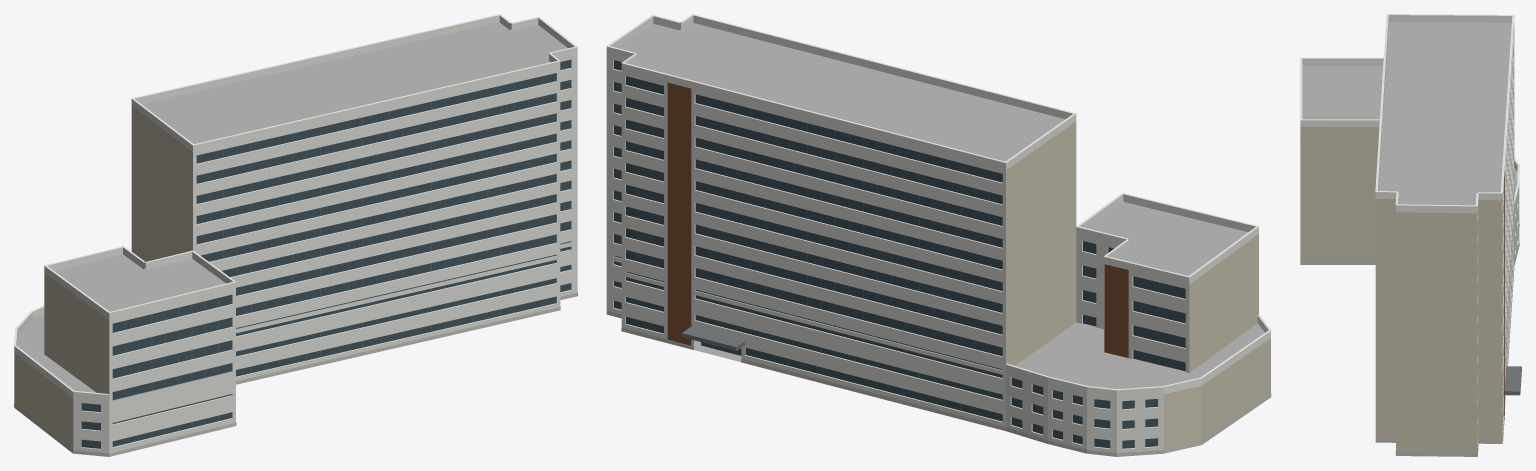
3 renders of one model, left to right at view 1: azimuth 30°, elevation 25°; view 2: azimuth 150°, elevation 25°; view 3: azimuth 270°, elevation 25°, orthographic. The views are drawn at different scales.
Visible parts, largest first — view 1: hospitalEast__wall, hospitalEast__glass, hospitalEast__roof, hospitalEast__wall2, hospitalEast__parapet, hospitalEast__trim, hospitalEast__frame, hospitalEast__base; view 2: hospitalEast__wall, hospitalEast__glass, hospitalEast__roof, hospitalEast__wall2, hospitalEast__parapet, hospitalEast__wood, hospitalEast__trim, hospitalEast__base, hospitalEast__frame, hospitalEast__canopy; view 3: hospitalEast__wall2, hospitalEast__roof, hospitalEast__wall, hospitalEast__parapet, hospitalEast__trim, hospitalEast__base, hospitalEast__canopy, hospitalEast__wood.
Boxes of the visible parts, bbox=[...] form: hospitalEast__wall: bbox=[73, 54, 577, 456]; hospitalEast__glass: bbox=[81, 59, 570, 448]; hospitalEast__roof: bbox=[17, 22, 570, 400]; hospitalEast__wall2: bbox=[14, 106, 192, 453]; hospitalEast__parapet: bbox=[14, 15, 577, 401]; hospitalEast__trim: bbox=[14, 14, 577, 395]; hospitalEast__frame: bbox=[125, 76, 542, 443]; hospitalEast__base: bbox=[14, 293, 577, 456]; hospitalEast__wall: bbox=[606, 54, 1189, 453]; hospitalEast__glass: bbox=[614, 60, 1185, 448]; hospitalEast__roof: bbox=[613, 23, 1264, 389]; hospitalEast__wall2: bbox=[1006, 121, 1270, 449]; hospitalEast__parapet: bbox=[606, 15, 1270, 397]; hospitalEast__wood: bbox=[667, 82, 1128, 357]; hospitalEast__trim: bbox=[606, 14, 1271, 390]; hospitalEast__base: bbox=[606, 311, 1271, 456]; hospitalEast__frame: bbox=[638, 79, 1173, 417]; hospitalEast__canopy: bbox=[682, 327, 744, 350]; hospitalEast__wall2: bbox=[1300, 127, 1502, 453]; hospitalEast__roof: bbox=[1302, 22, 1517, 405]; hospitalEast__wall: bbox=[1477, 24, 1519, 451]; hospitalEast__parapet: bbox=[1300, 15, 1519, 213]; hospitalEast__trim: bbox=[1300, 14, 1519, 206]; hospitalEast__base: bbox=[1300, 224, 1519, 456]; hospitalEast__canopy: bbox=[1504, 366, 1521, 395]; hospitalEast__wood: bbox=[1504, 172, 1504, 420].
Size of the model in its own units: 97.02 by 42.6 by 34.18.
